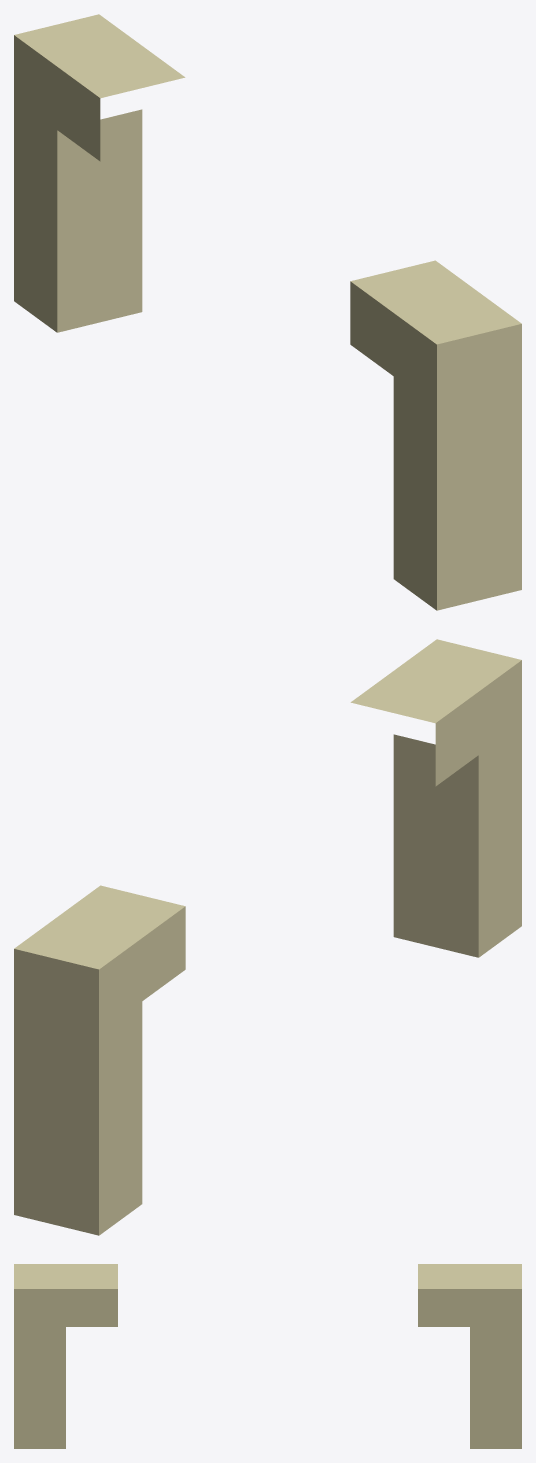
Rendered from playerArms.glb.
The picture shows the model from 3 angles, top to bottom: view 1: azimuth 30°, elevation 25°; view 2: azimuth 150°, elevation 25°; view 3: azimuth 270°, elevation 25°; orthographic projection. The views are drawn at different scales.
Visible parts, largest first — view 1: Cube.001; view 2: Cube.001; view 3: Cube.001.
Boxes of the visible parts, x1=… form: Cube.001: x1=14, y1=14, x2=521, y2=610; Cube.001: x1=14, y1=639, x2=521, y2=1235; Cube.001: x1=14, y1=1264, x2=521, y2=1448.
Size of the model in its own units: 0.6868 by 2.05 by 5.91.
